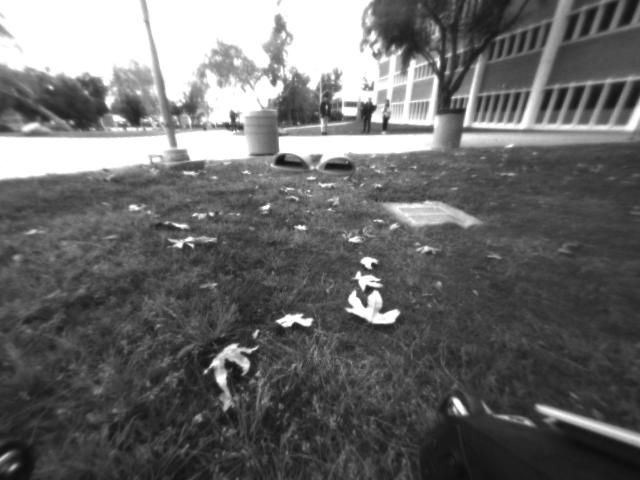trashcan: (241, 107, 282, 158), (432, 106, 466, 156)
